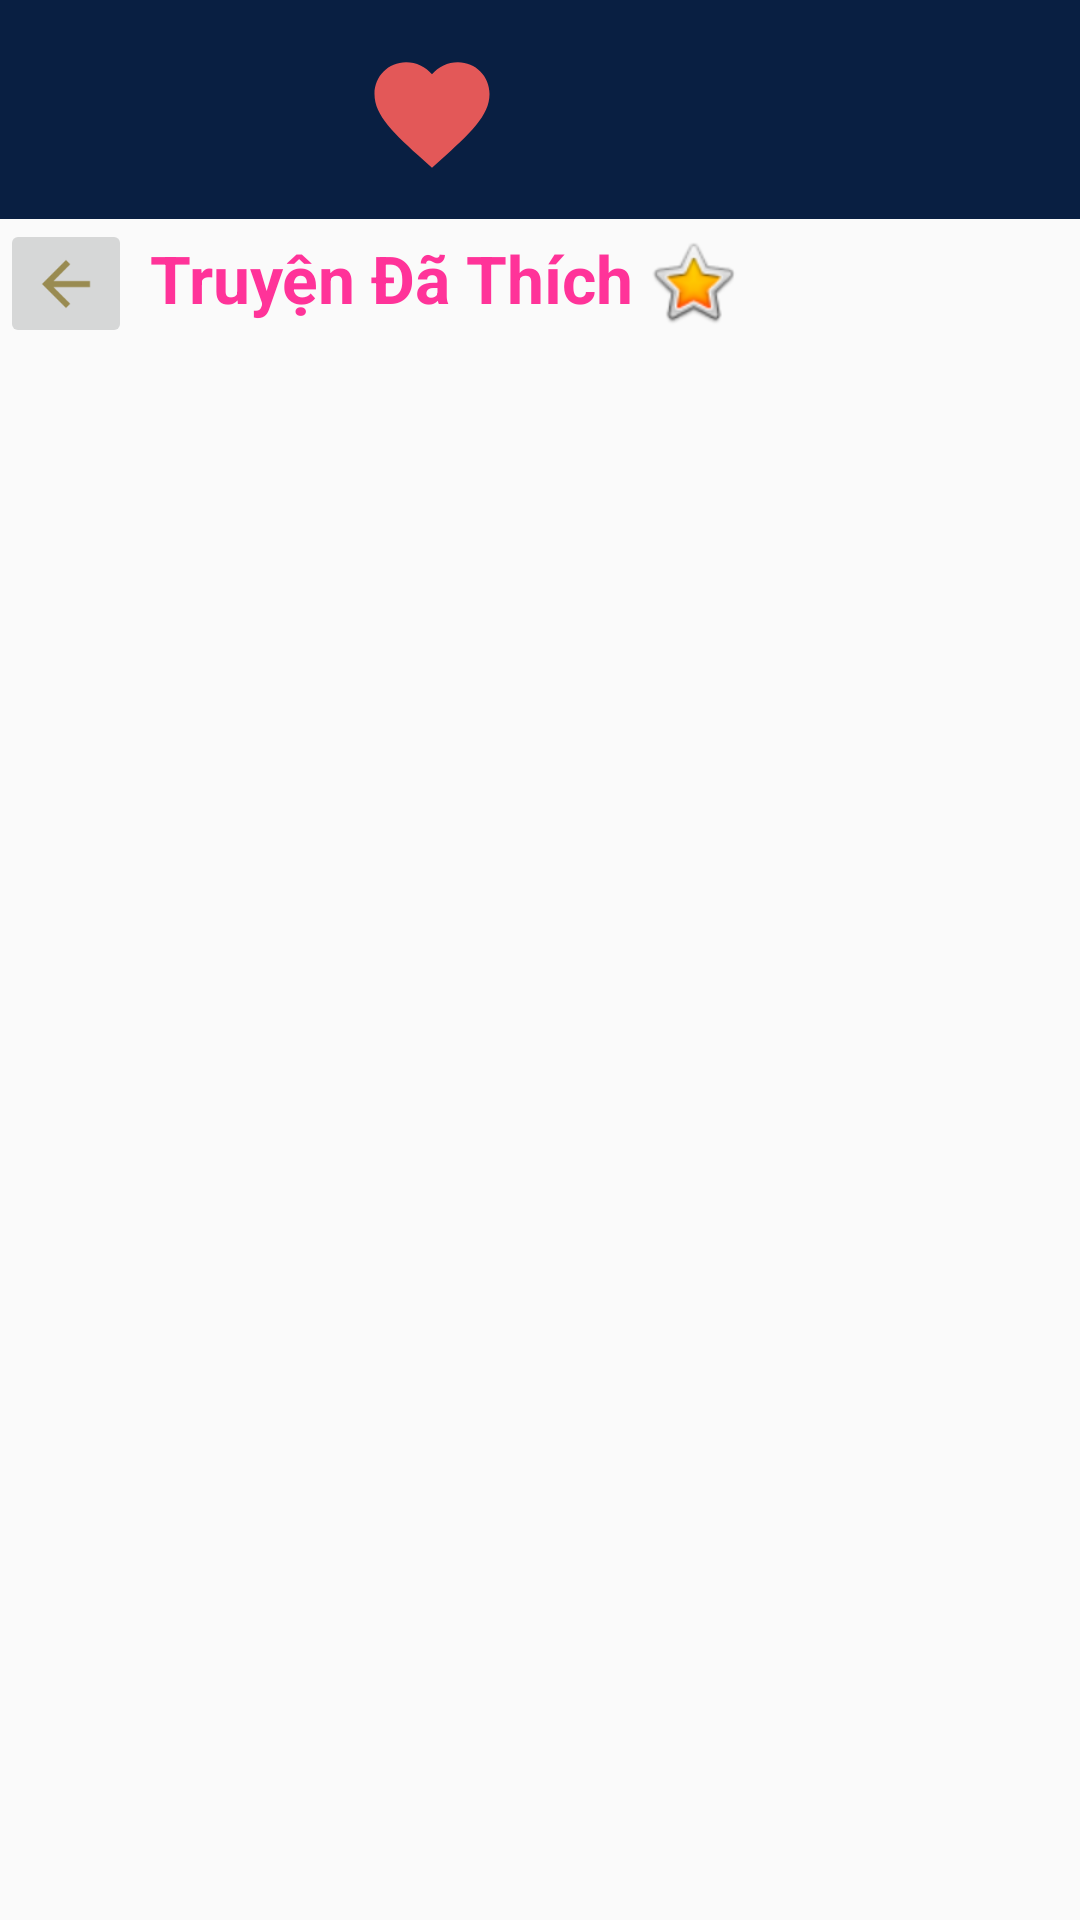

Icons on this 1080 × 1920 Android screen, each with its box as [x1,y1,x2,y2]:
arrow back: [12,237,120,330]
favorite liked: [374,62,490,168]
star on: [654,244,734,322]
